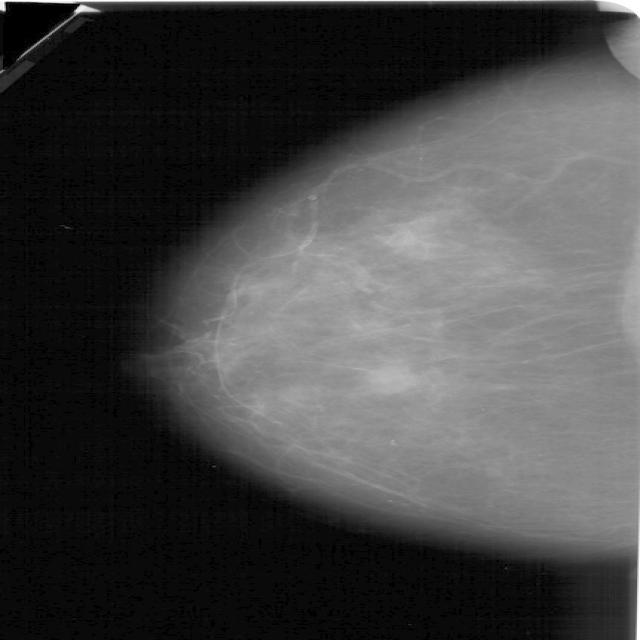tumour: (358, 362, 414, 394)
